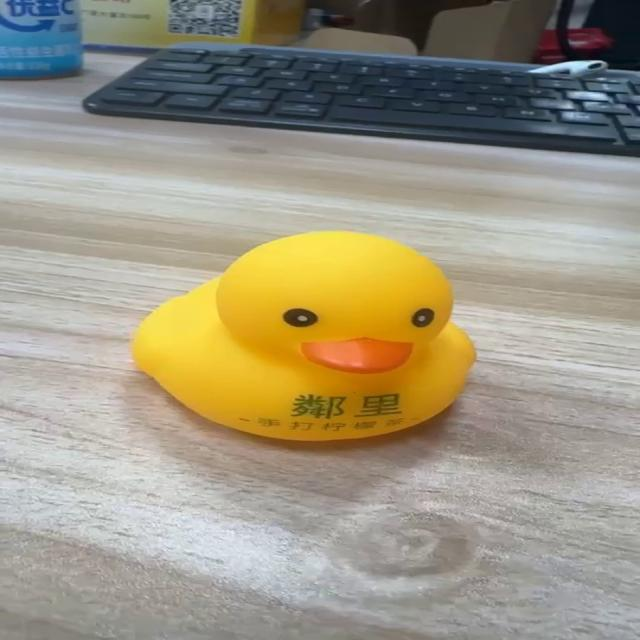yellow_duck: (128, 228, 478, 442)
